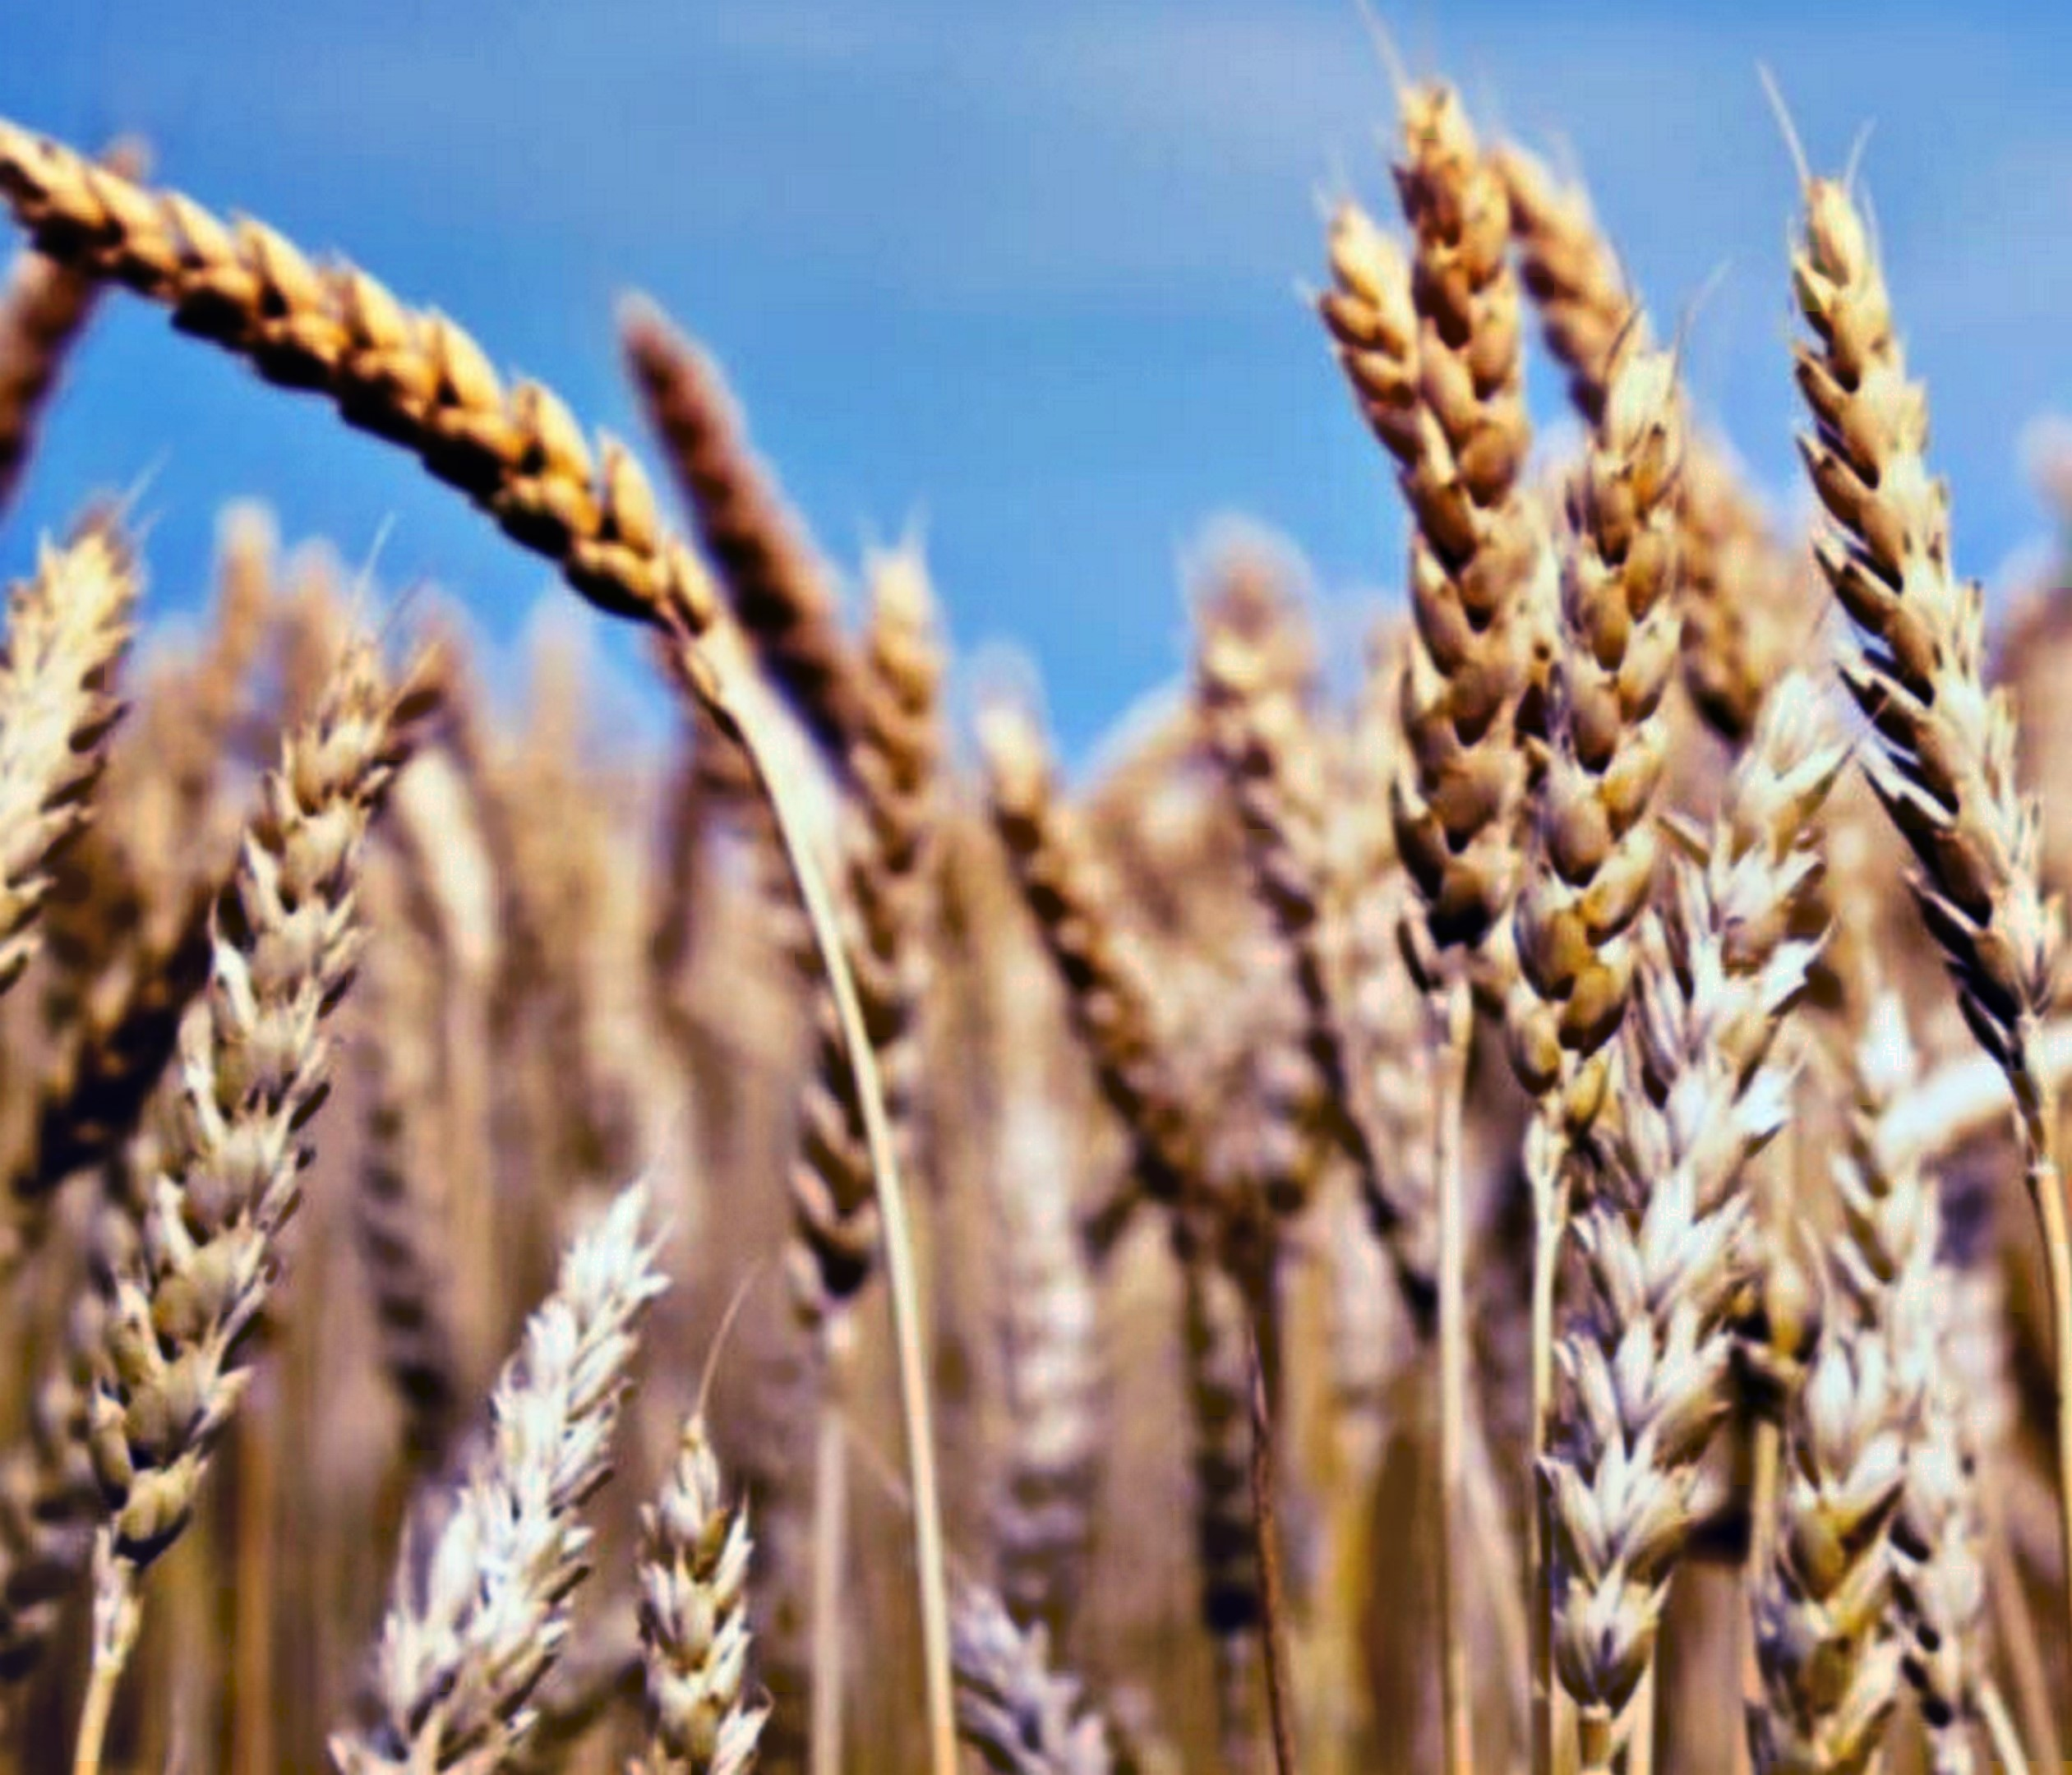Healthy Wheat: (84, 660, 444, 1565), (1776, 150, 2072, 1002)
